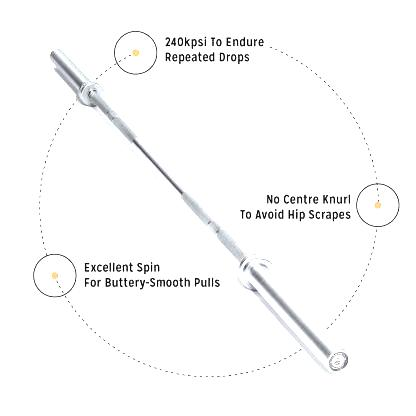Barbell: (321, 345, 355, 380)
